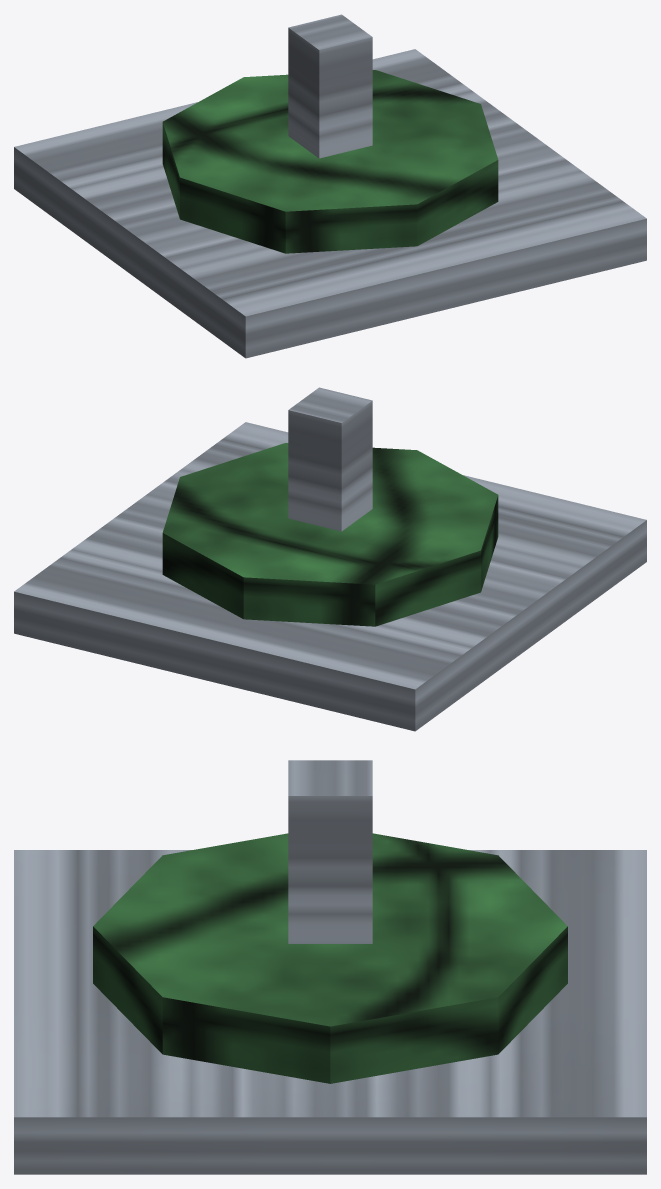
Rendered from mosquito_coil.fbx.
3 renders of one model, top to bottom at view 1: azimuth 30°, elevation 25°; view 2: azimuth 150°, elevation 25°; view 3: azimuth 270°, elevation 25°, orthographic. The views are drawn at different scales.
Visible parts, largest first — view 1: mosquito_coil; view 2: mosquito_coil; view 3: mosquito_coil.
Boxes of the visible parts, x1=… form: mosquito_coil: x1=14, y1=14, x2=646, y2=358; mosquito_coil: x1=14, y1=387, x2=646, y2=731; mosquito_coil: x1=14, y1=760, x2=646, y2=1174.
Size of the model in its own units: 12 by 5.5 by 12.
